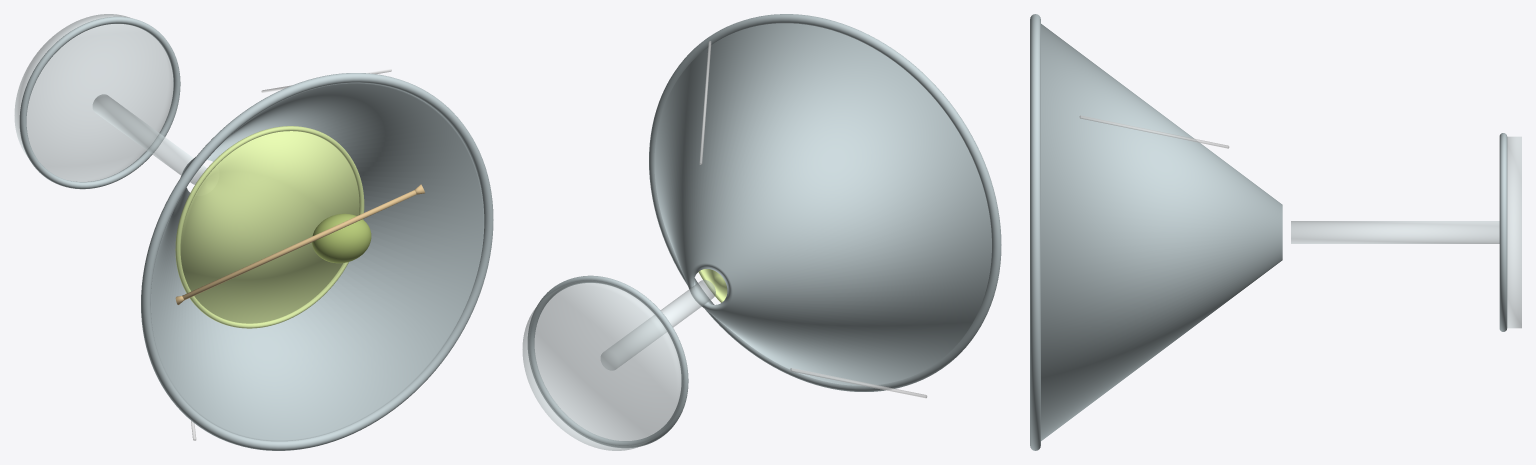
File: copa_martini_verde.glb
The picture shows the model from 3 angles, left to right: view 1: azimuth 30°, elevation 25°; view 2: azimuth 150°, elevation 25°; view 3: azimuth 270°, elevation 25°; orthographic projection. The views are drawn at different scales.
Visible parts, largest first — view 1: copa_martini_bowl_cristal, liquido_verde_d2fd6e, base_redonda_cristal, aro_superior_cristal, borde_base_cristal, menisco_liquido, tallo_cristal, aceituna, palillo_aceituna; view 2: copa_martini_bowl_cristal, base_redonda_cristal, aro_superior_cristal, borde_base_cristal, tallo_cristal, reflejo_cristal_lateral; view 3: copa_martini_bowl_cristal, tallo_cristal, aro_superior_cristal, base_redonda_cristal, borde_base_cristal, reflejo_cristal_frontal.
Boxes of the visible parts, left/top/right/bottom form: copa_martini_bowl_cristal: left=151, top=83, right=484, bottom=441; liquido_verde_d2fd6e: left=178, top=129, right=360, bottom=325; base_redonda_cristal: left=14, top=14, right=173, bottom=181; aro_superior_cristal: left=141, top=73, right=493, bottom=450; borde_base_cristal: left=19, top=16, right=180, bottom=189; menisco_liquido: left=175, top=126, right=364, bottom=328; tallo_cristal: left=92, top=94, right=206, bottom=184; aceituna: left=312, top=213, right=371, bottom=263; palillo_aceituna: left=182, top=190, right=416, bottom=300; copa_martini_bowl_cristal: left=654, top=23, right=991, bottom=385; base_redonda_cristal: left=522, top=281, right=682, bottom=450; aro_superior_cristal: left=649, top=14, right=1001, bottom=391; borde_base_cristal: left=528, top=275, right=688, bottom=447; tallo_cristal: left=601, top=280, right=715, bottom=370; reflejo_cristal_lateral: left=790, top=368, right=927, bottom=398; copa_martini_bowl_cristal: left=1041, top=24, right=1282, bottom=440; tallo_cristal: left=1291, top=221, right=1499, bottom=243; aro_superior_cristal: left=1030, top=14, right=1040, bottom=450; base_redonda_cristal: left=1507, top=136, right=1521, bottom=328; borde_base_cristal: left=1499, top=133, right=1507, bottom=331; reflejo_cristal_frontal: left=1079, top=115, right=1229, bottom=148.
Size of the model in its own units: 2.83 by 2.83 by 3.18.
